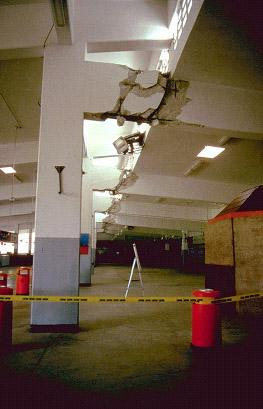spalling: (84, 69, 190, 123)
